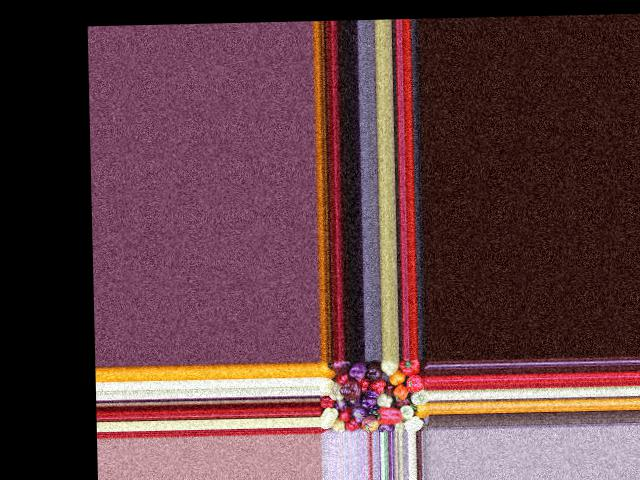bell_pepper: (408, 390, 428, 403)
